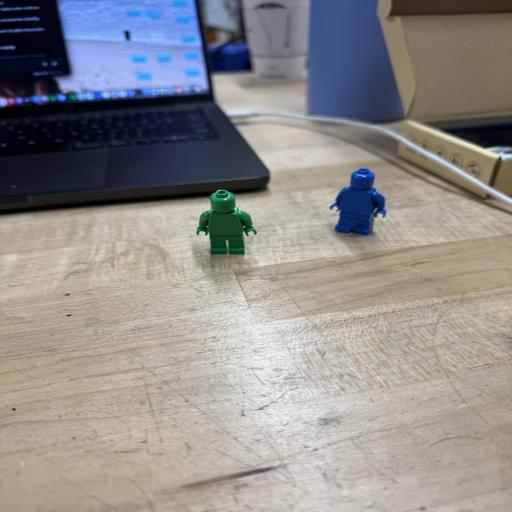blue-minifig: (330, 169, 385, 234)
green-minifig: (196, 189, 257, 254)
